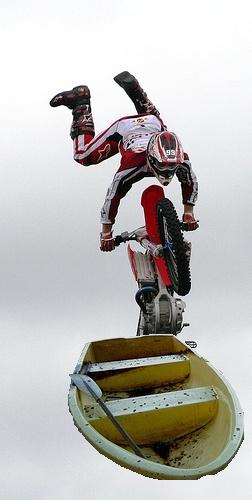tampered: (69, 335, 244, 480)
